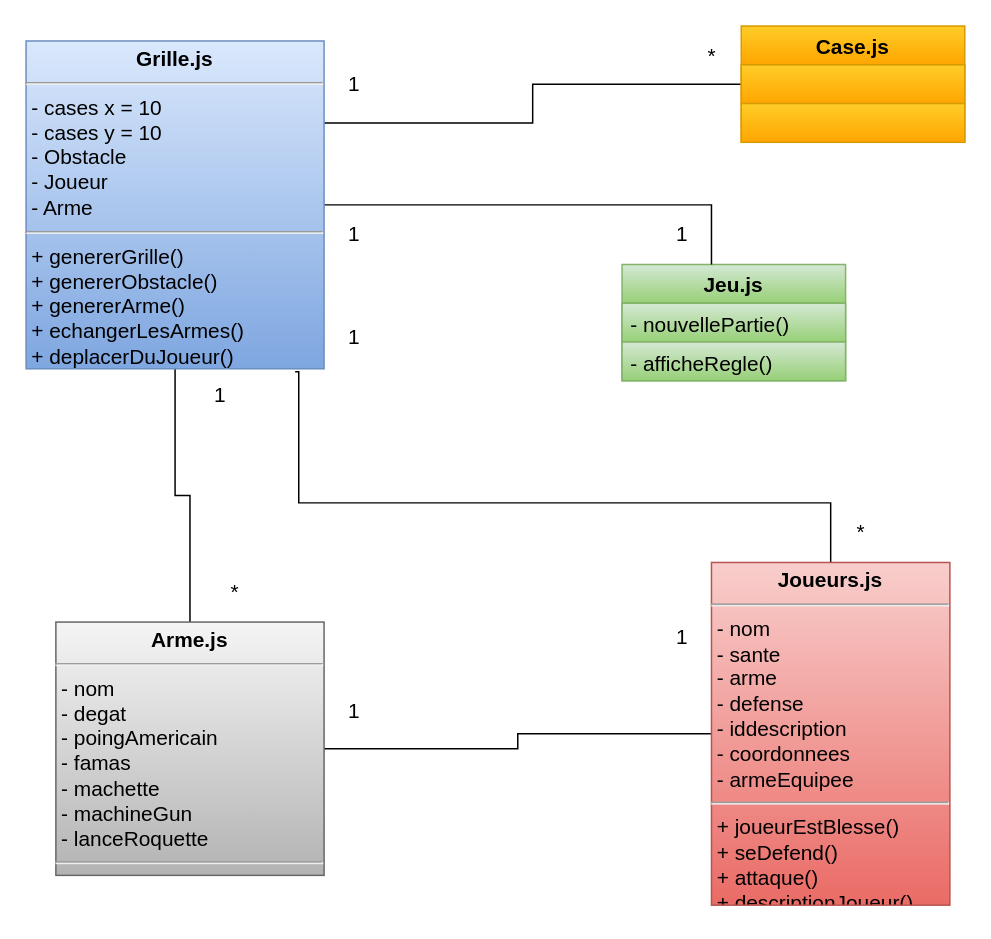
Some shapes in this 991 by 939 pixel diagram are drawn without their labels. The shapes that lost their labels are listed below. From the top down, each one's centre as x and y in pixels, then its label:
At point 852,83: "- obstacles".
At point 852,122: "- armes".
